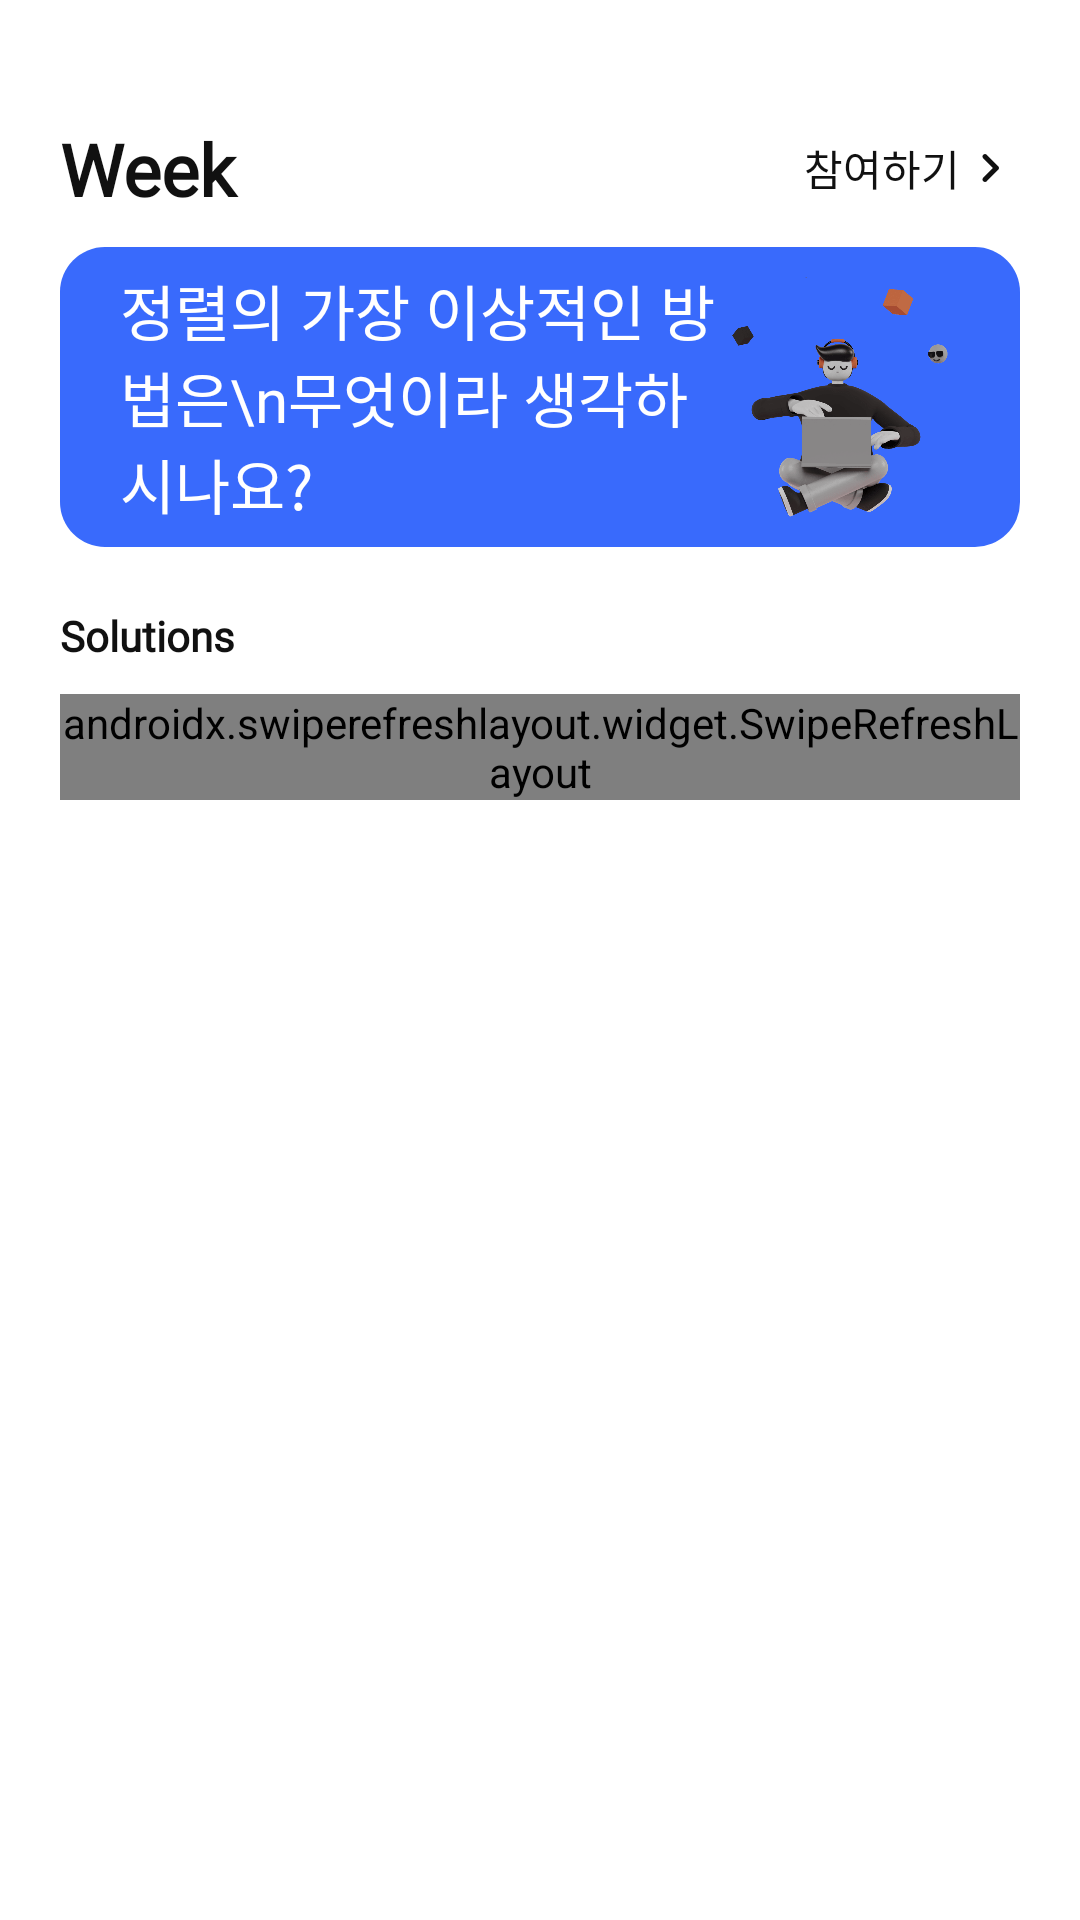

Icon bounding boxes for this 1080×1920 phone screenshot, format (x1, y1, x2, y2):
hero: (732, 277, 948, 517)
keyboard arrow right: (982, 154, 999, 182)
